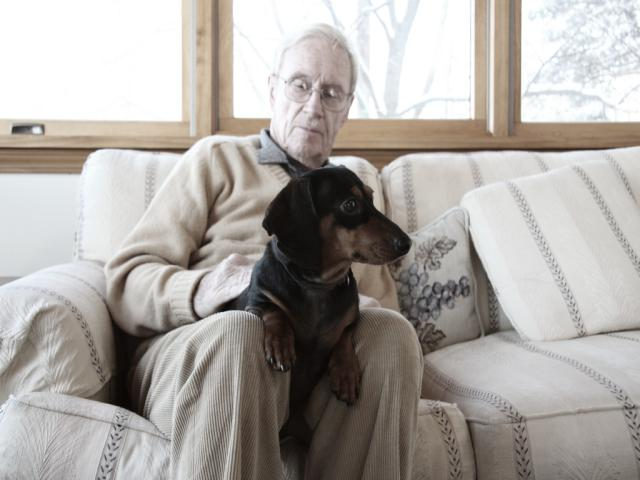Dog: (234, 164, 413, 454)
